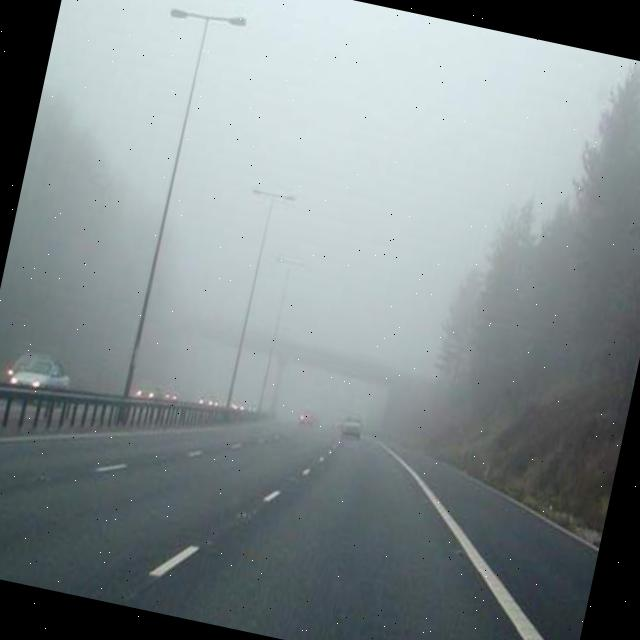car: (2, 348, 74, 398), (339, 412, 365, 440)
